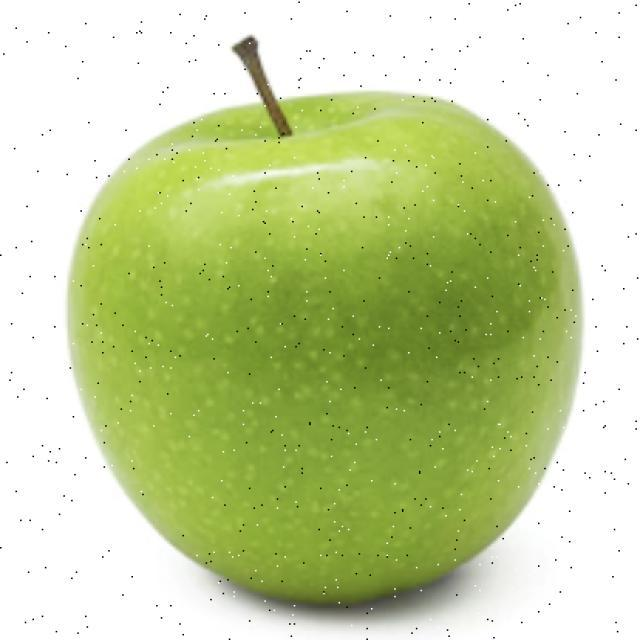Fresh Apple: (55, 90, 577, 587)
